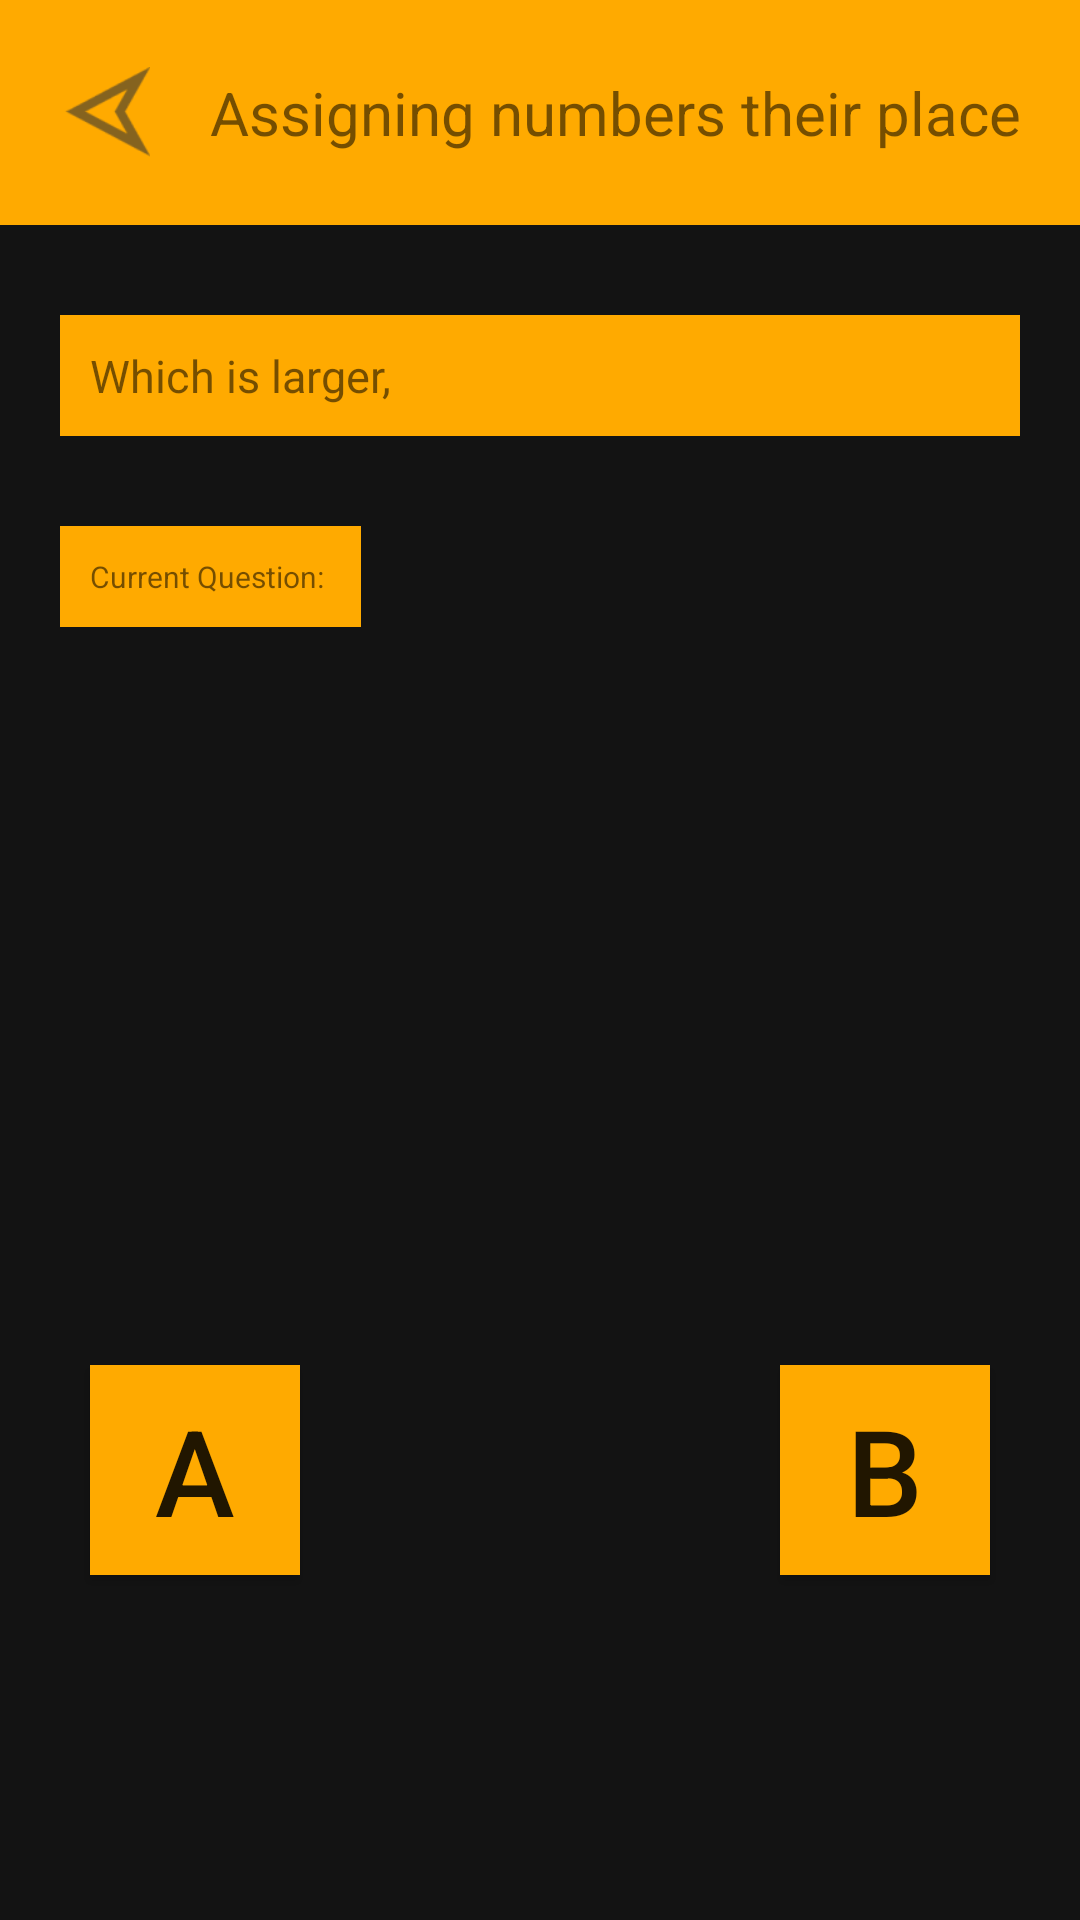

Where icons sit on this 1080px×1920px app screen, as (x1, y1, x2, y2):
back: (66, 67, 150, 156)
